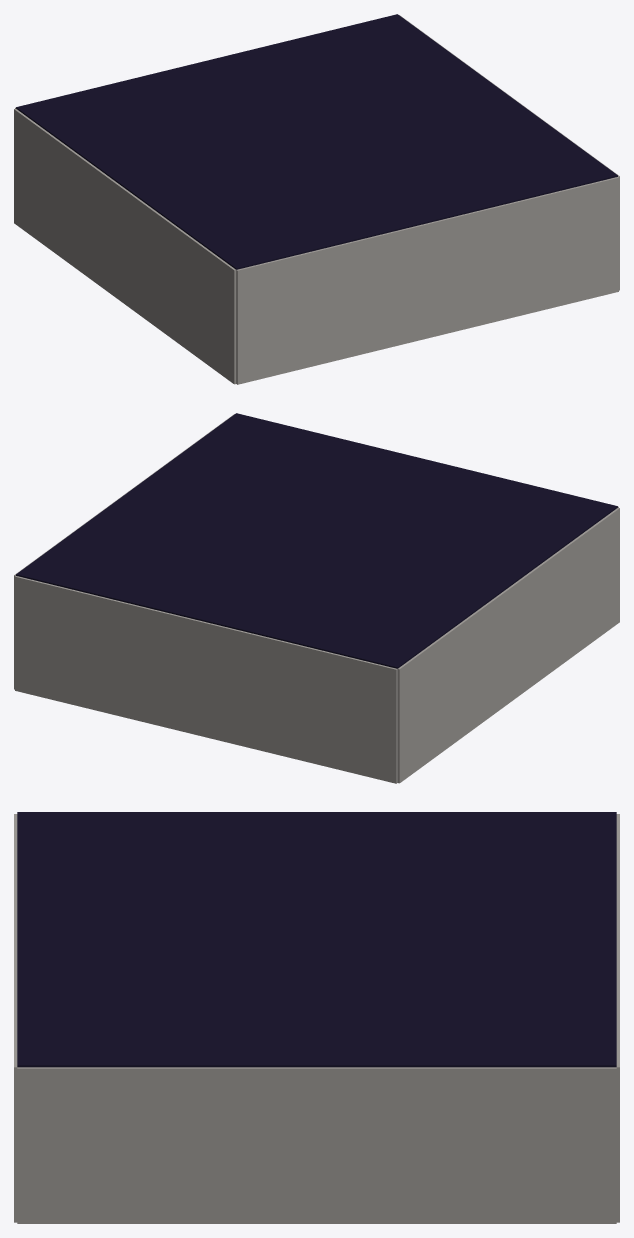
The model's file is hall.glb.
The picture shows the model from 3 angles, top to bottom: view 1: azimuth 30°, elevation 25°; view 2: azimuth 150°, elevation 25°; view 3: azimuth 270°, elevation 25°; orthographic projection. The views are drawn at different scales.
Parts seen in each view (by area): view 1: m21, beton; view 2: m21, beton; view 3: m21, beton.
Boxes of the visible parts, x1,y1,x2,y2 form: m21: [16, 14, 617, 269]; beton: [14, 15, 619, 384]; m21: [16, 413, 617, 668]; beton: [14, 414, 619, 783]; m21: [17, 812, 616, 1067]; beton: [14, 814, 619, 1223].
Size of the model in its own units: 28.3 by 8.14 by 28.3.
